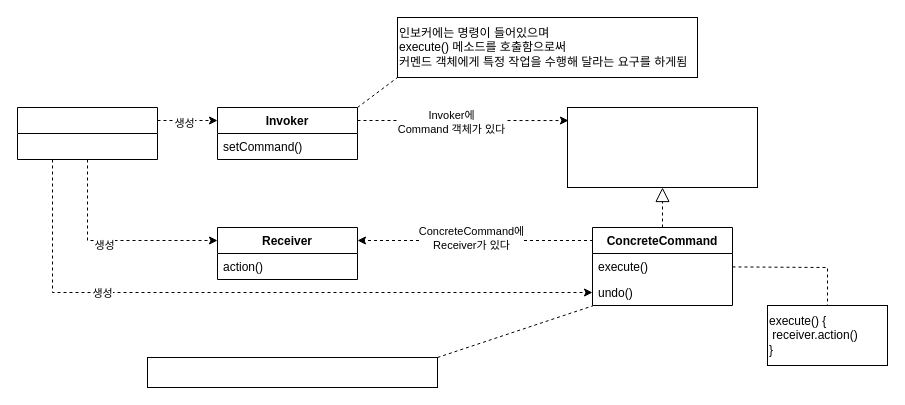
Image size: 905x405. Some labels were removed from this diagram. The centre of each missing label's shape, as x and y in pixels:
"<<Interface>> Command execute () undo ()" belongs at pixel 662 147.
"Client" belongs at pixel 87 133.
"ConcreteCommand는 특정 행동과 리시버를 연결해 줌" belongs at pixel 292 372.
